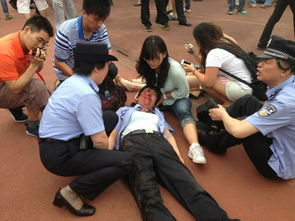10+: (1, 1, 295, 221)
down: (101, 79, 240, 221)
